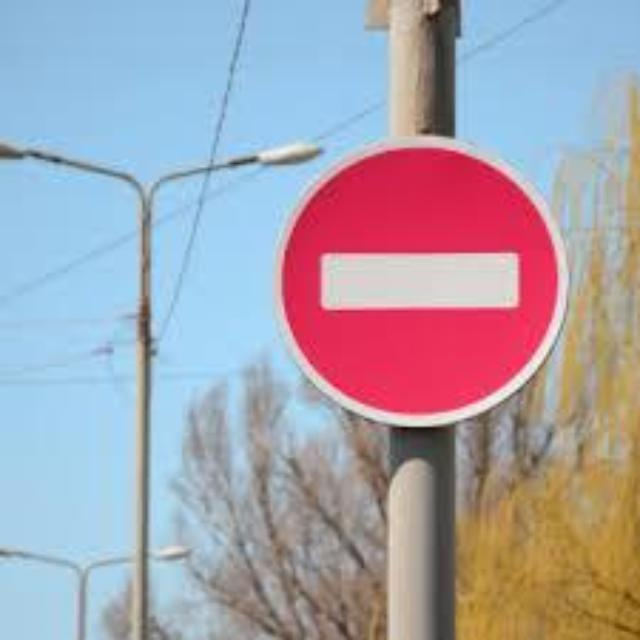B2: (268, 131, 572, 429)
